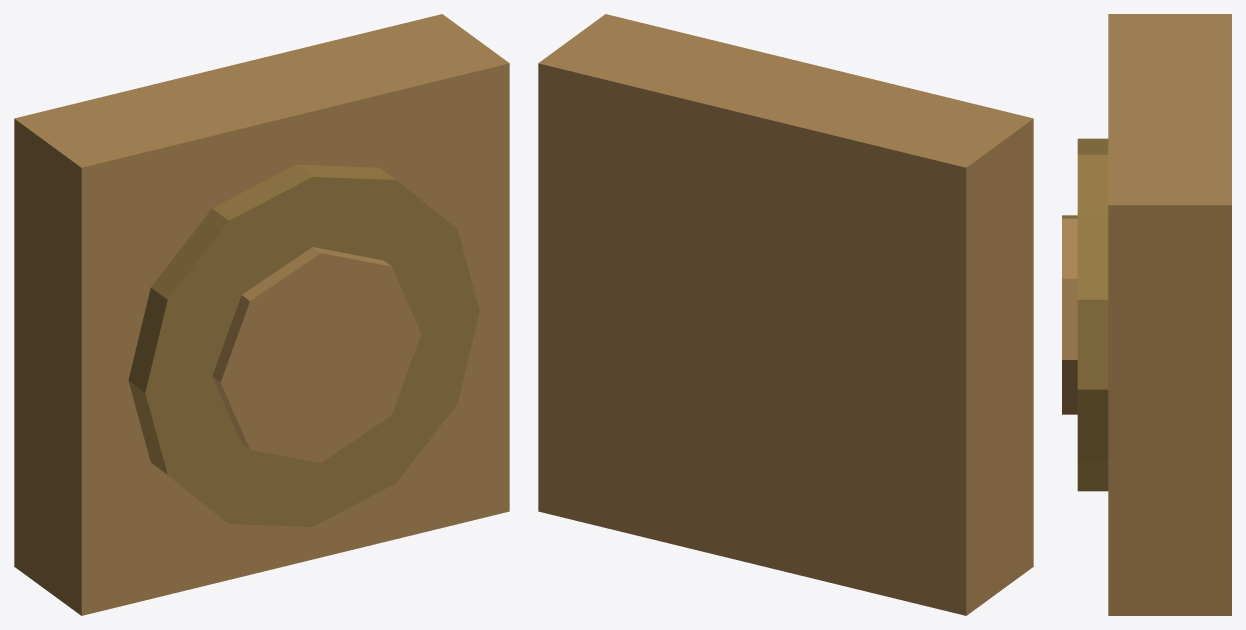
File: FRM_022_B_LODs.fbx
3 renders of one model, left to right at view 1: azimuth 30°, elevation 25°; view 2: azimuth 150°, elevation 25°; view 3: azimuth 270°, elevation 25°, orthographic. The views are drawn at different scales.
Parts seen in each view (by area): view 1: FRM_022_B_LOD0; view 2: FRM_022_B_LOD0; view 3: FRM_022_B_LOD0.
Boxes of the visible parts, bbox=[...] form: FRM_022_B_LOD0: bbox=[14, 14, 509, 615]; FRM_022_B_LOD0: bbox=[538, 14, 1033, 615]; FRM_022_B_LOD0: bbox=[1062, 14, 1231, 615].
Size of what is drawn, in the model's own units: 0.32 by 0.32 by 0.12.
